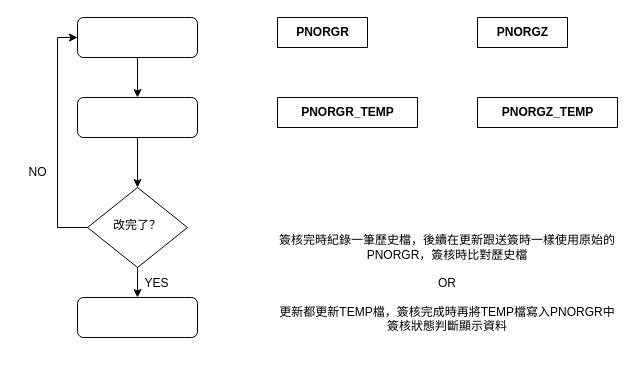
Some shapes in this 635 by 366 pixel diagram are drawn without their labels. The shapes that lost their labels are listed below. From the top down, each one's centre as x and y in pixels, then its label:
At (137,37): "更新".
At (137,117): "存檔".
At (137,317): "送簽".
